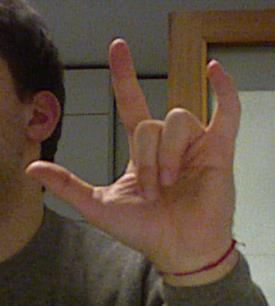back: (22, 38, 247, 270)
